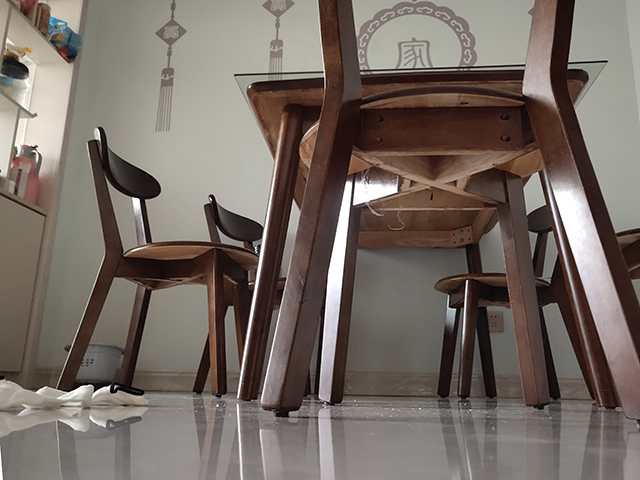cabinet: (1, 1, 92, 385)
socks: (1, 373, 151, 412)
stool: (258, 1, 640, 425), (54, 124, 311, 399), (432, 204, 640, 407)
table: (232, 58, 620, 411)
